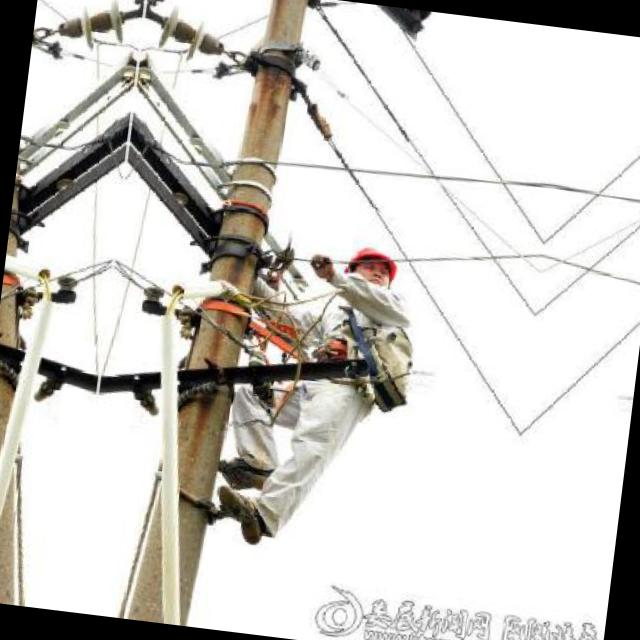helmet: (338, 234, 411, 298)
